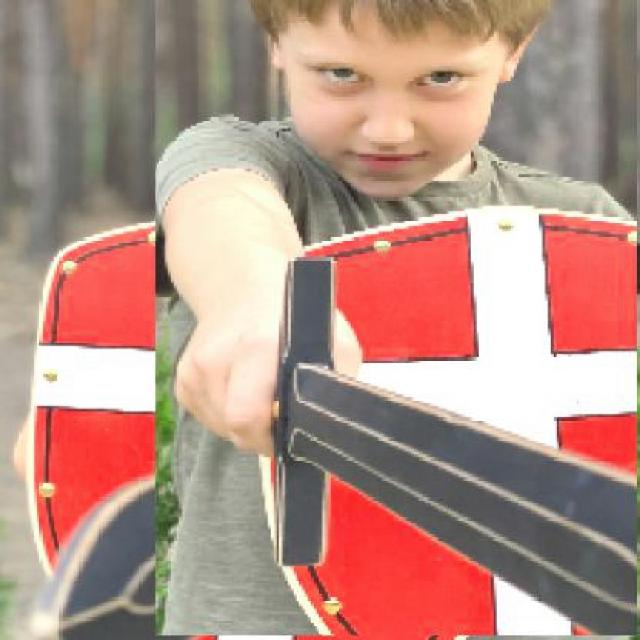child: (154, 0, 637, 637)
